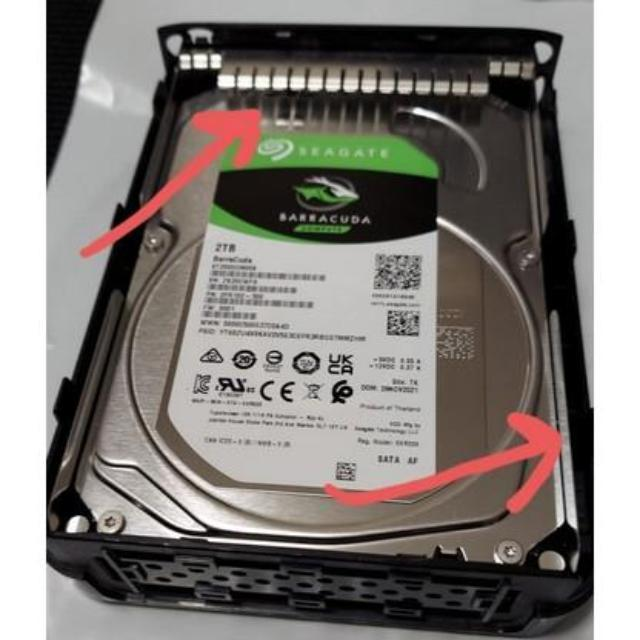DISK: (47, 33, 582, 630)
